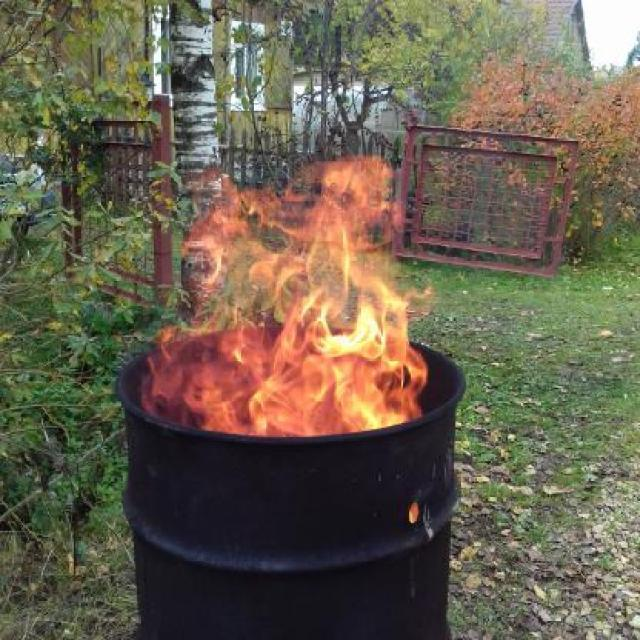fire: (136, 158, 434, 435)
